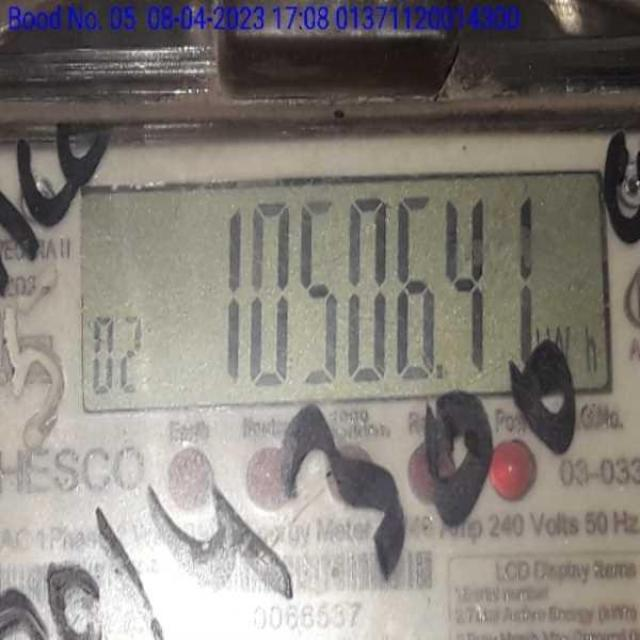0: (343, 197, 393, 385), (249, 204, 292, 388)
1: (510, 195, 550, 379), (217, 201, 249, 383)
4: (445, 195, 498, 376)
5: (296, 200, 345, 388)
6: (397, 194, 438, 381)
Digital meter: (78, 181, 614, 391)
point: (430, 361, 452, 388)
